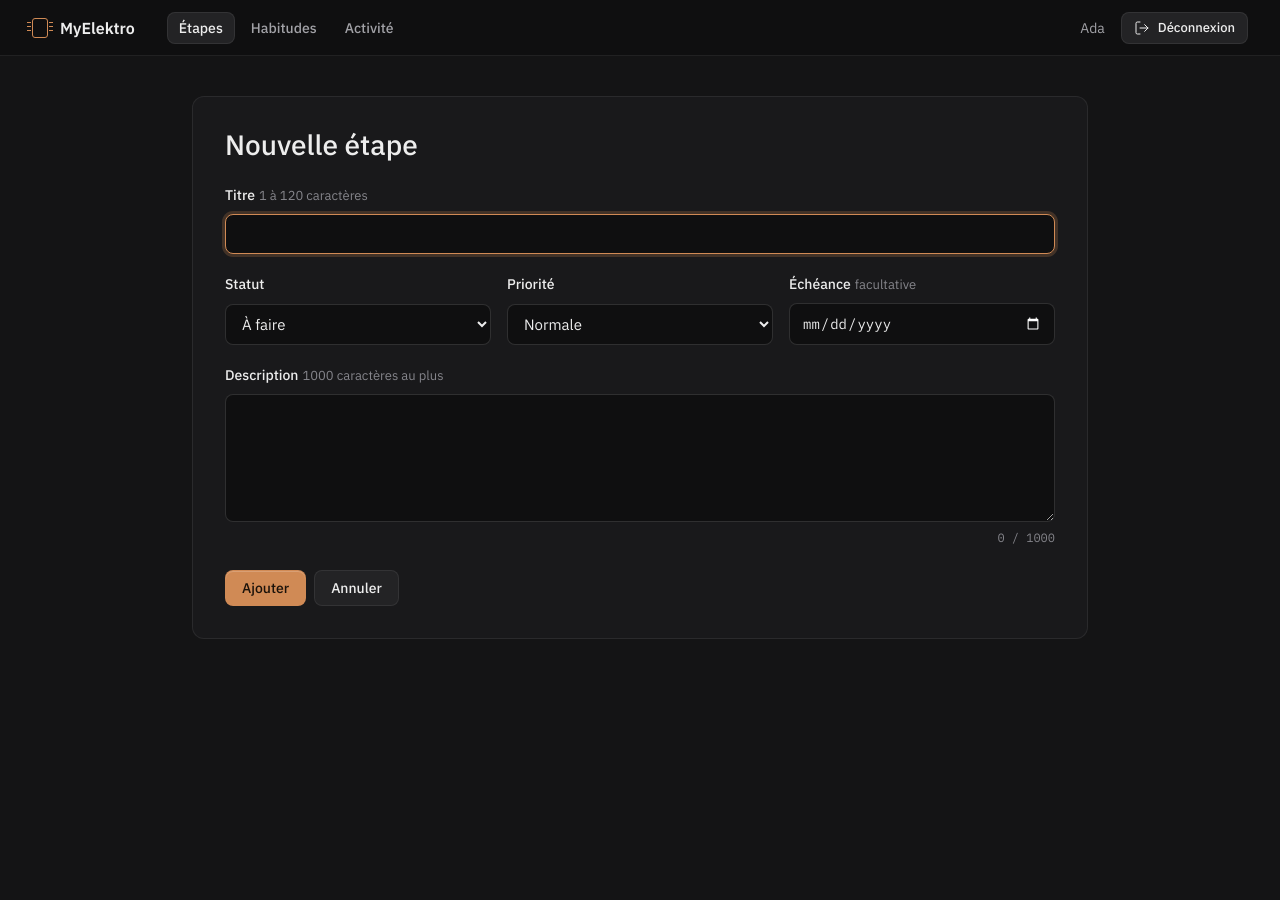
Test: formulaire › compte les caractères de la description
The width and height of the screenshot is (1280, 900).
Type "abc" into the text box labelled "Description1000 caractères au plus" at (640, 458), box x1=225 y1=394 x2=1055 y2=522
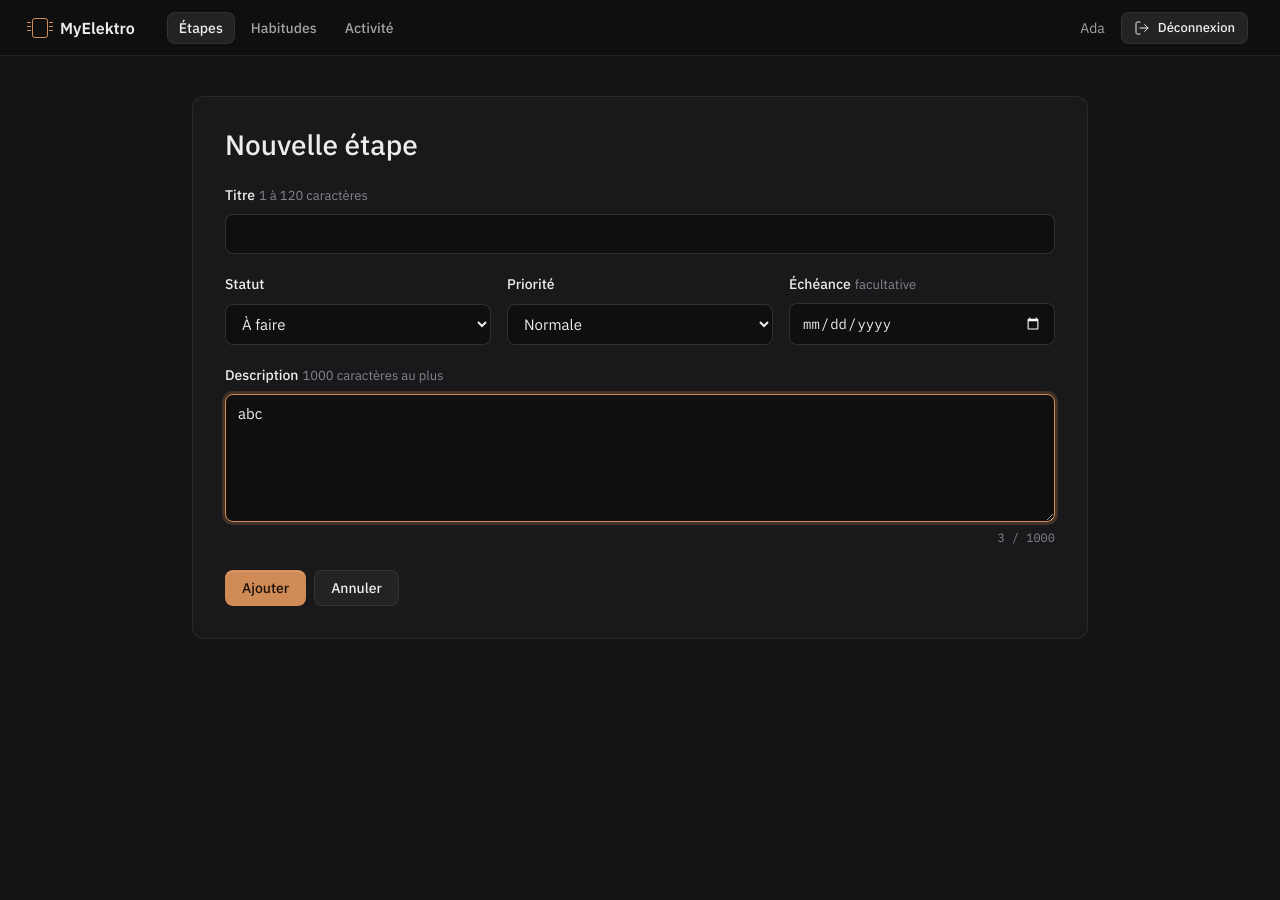
Check: the text "3 / 1000" is shown, box x1=997 y1=530 x2=1055 y2=546
